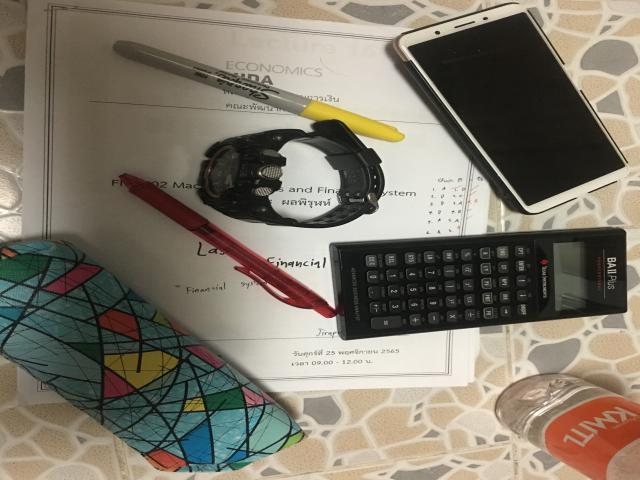Mobile phone: (393, 3, 628, 214)
Pen: (118, 173, 337, 318), (113, 40, 405, 142)
Watch: (198, 119, 385, 228)
bottle: (495, 374, 640, 480)
paper: (16, 1, 507, 404)
